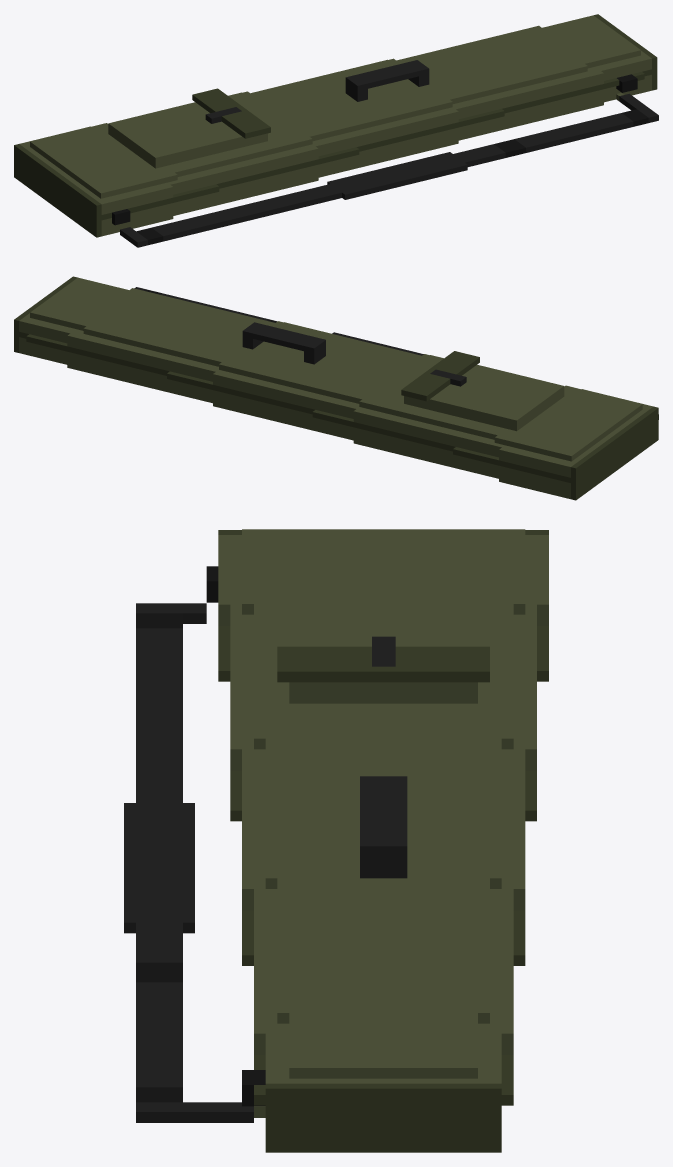
The model's file is rifle_case_soft.glb.
3 renders of one model, top to bottom at view 1: azimuth 30°, elevation 25°; view 2: azimuth 150°, elevation 25°; view 3: azimuth 270°, elevation 25°, orthographic. The views are drawn at different scales.
Parts seen in each view (by area): view 1: rifle_case_soft:compound; view 2: rifle_case_soft:compound; view 3: rifle_case_soft:compound.
Part boxes in pixels (left/top/right/bottom): rifle_case_soft:compound: left=14, top=14, right=658, bottom=247; rifle_case_soft:compound: left=14, top=276, right=658, bottom=500; rifle_case_soft:compound: left=124, top=529, right=548, bottom=1152.
Size of the model in its own units: 1.12 by 0.1 by 0.36.
